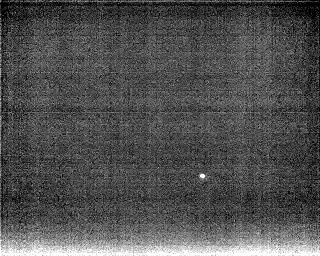AIRPLANE: (197, 170, 207, 182)
